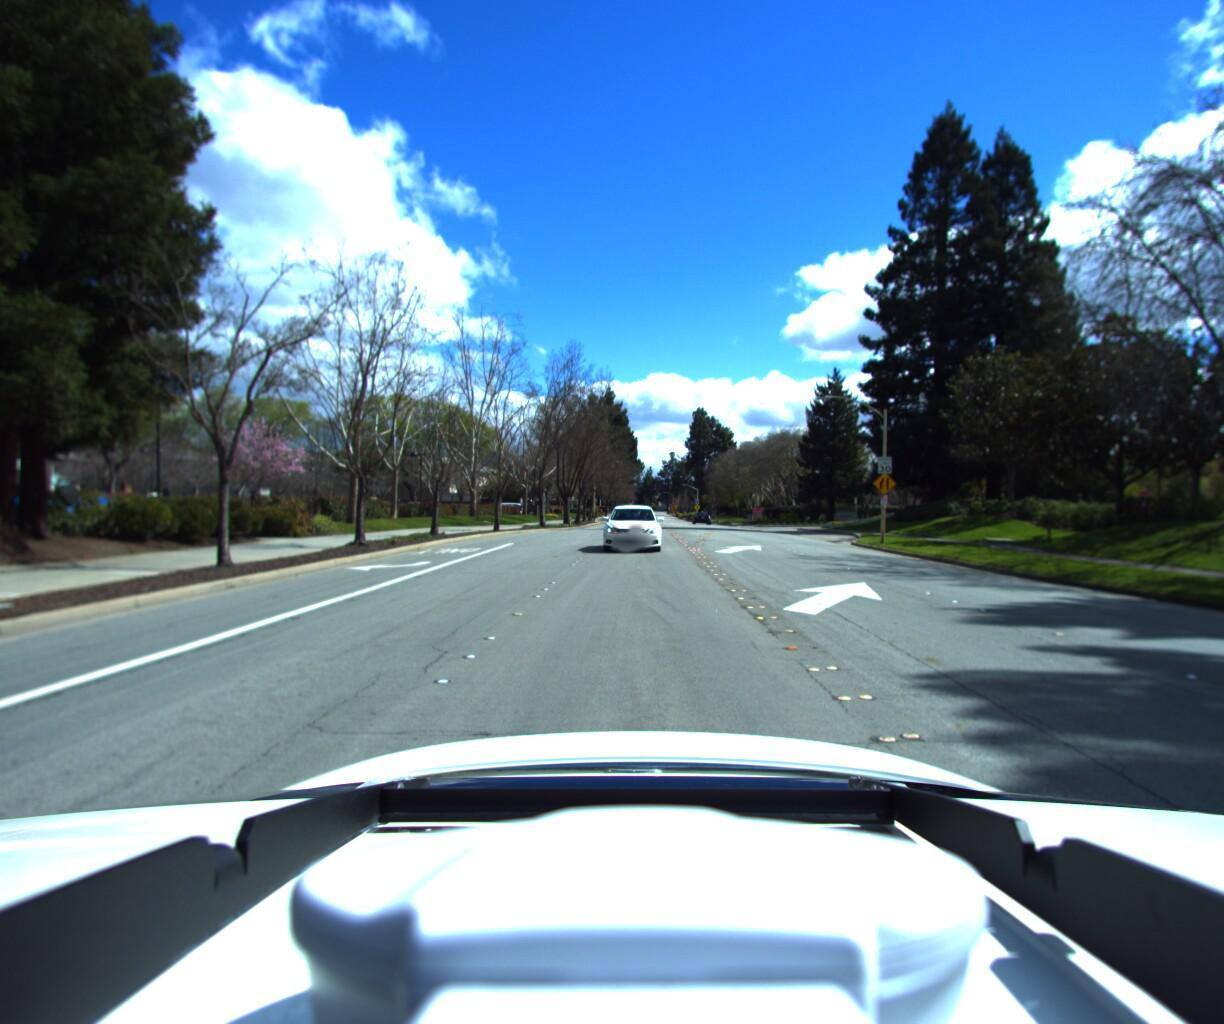car: (600, 510, 659, 562), (690, 518, 711, 531)
